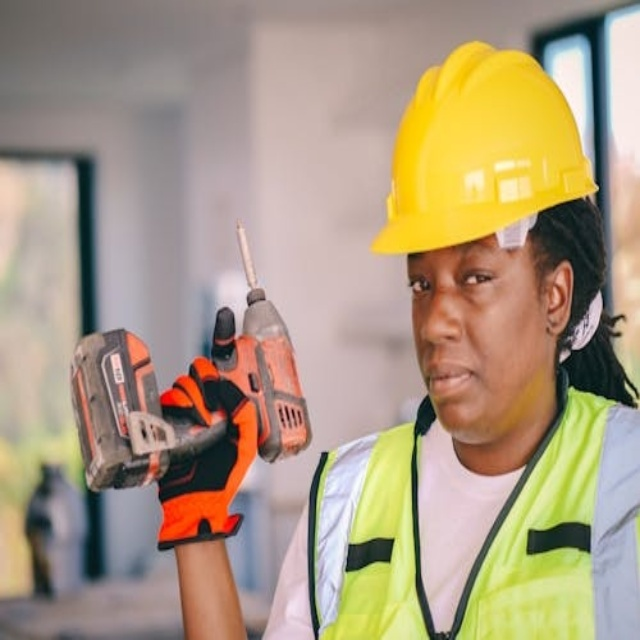Guantes: (146, 297, 256, 558)
Sin_gafas: (406, 256, 512, 307)
Sin_mascara: (417, 355, 497, 427)
